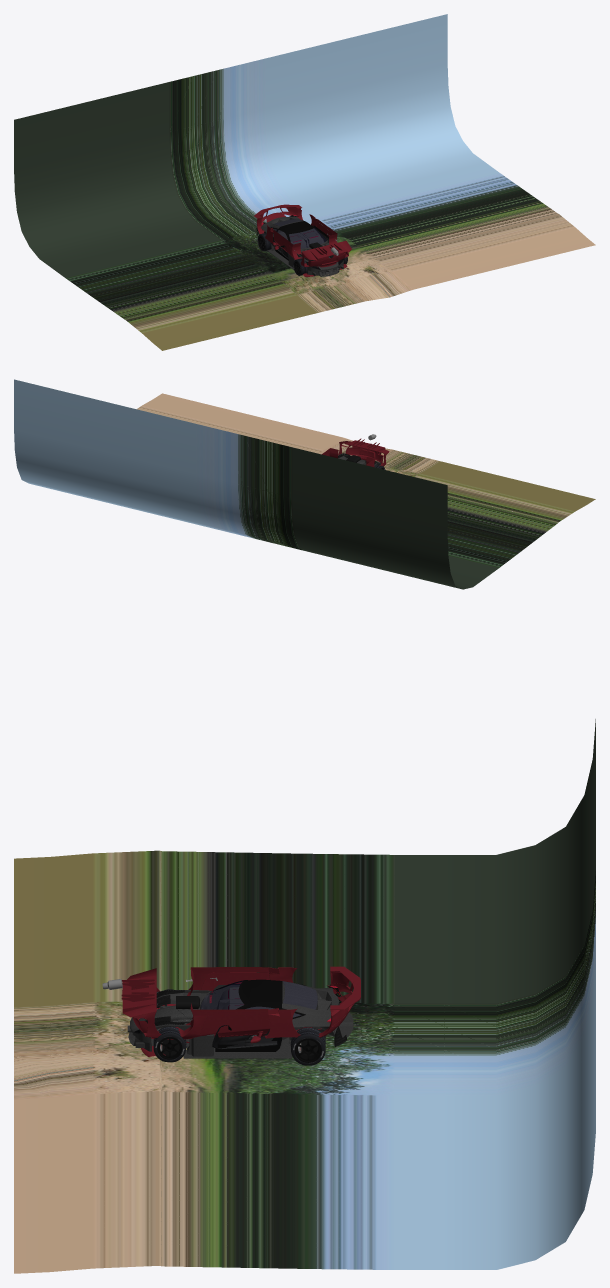
Rendered from Race_Car.FBX.
3 views of the same model, one above another, from view 1: azimuth 30°, elevation 25°; view 2: azimuth 150°, elevation 25°; view 3: azimuth 270°, elevation 25° (orthographic). The views are drawn at different scales.
Visible parts, largest first — view 1: Plane001, Body, Inner_Shell, Interior_Dash; view 2: Plane001, Body; view 3: Plane001, Body, Inner_Shell, Middle_Body_Shell, Tyres.
Boxes of the visible parts, x1,y1,x2,y2 form: Plane001: [14, 14, 595, 350]; Body: [254, 204, 351, 276]; Inner_Shell: [261, 216, 343, 276]; Interior_Dash: [278, 228, 326, 248]; Plane001: [14, 379, 595, 589]; Body: [322, 438, 389, 467]; Plane001: [14, 719, 595, 1273]; Body: [121, 966, 360, 1056]; Inner_Shell: [128, 981, 353, 1058]; Middle_Body_Shell: [213, 979, 305, 1051]; Tyres: [153, 989, 325, 1065].
Size of the model in its own units: 1924 by 528 by 1140.
